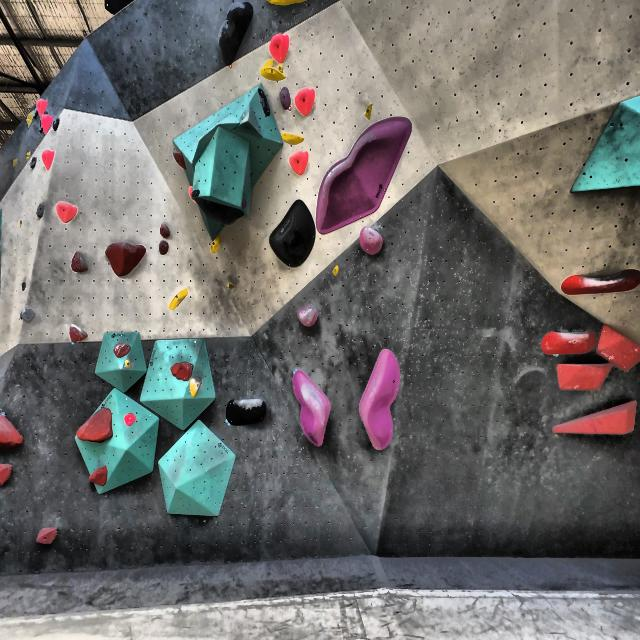Hold: (318, 114, 411, 235), (360, 347, 405, 456), (290, 364, 332, 452), (552, 400, 640, 438), (268, 200, 312, 269), (592, 318, 640, 372), (219, 0, 252, 68), (538, 323, 596, 357), (556, 358, 610, 394), (103, 240, 149, 282), (557, 275, 640, 297), (74, 407, 114, 448), (194, 202, 249, 228), (222, 399, 267, 426), (0, 412, 28, 451), (357, 226, 390, 253), (295, 84, 318, 121), (264, 32, 292, 62), (287, 149, 311, 180), (35, 524, 64, 548), (254, 85, 275, 118), (278, 126, 308, 148), (295, 302, 319, 329), (87, 463, 110, 489), (258, 66, 289, 84), (56, 201, 80, 223), (0, 460, 17, 488), (268, 0, 306, 12), (67, 322, 88, 343), (170, 288, 190, 310), (170, 360, 193, 379), (277, 87, 292, 115), (169, 146, 188, 168), (71, 250, 89, 273), (41, 148, 56, 170), (160, 219, 174, 242), (112, 340, 132, 356), (20, 309, 38, 326), (187, 180, 204, 198), (363, 103, 379, 122), (190, 373, 202, 398), (208, 234, 222, 255), (330, 258, 342, 279), (36, 96, 48, 116), (155, 240, 173, 253), (41, 114, 52, 135), (36, 201, 47, 219), (124, 412, 138, 426), (224, 280, 237, 294), (53, 114, 63, 132), (25, 110, 34, 128), (124, 359, 134, 373), (24, 148, 32, 161), (29, 156, 37, 168), (20, 281, 28, 291), (12, 156, 18, 168), (17, 219, 22, 228)
